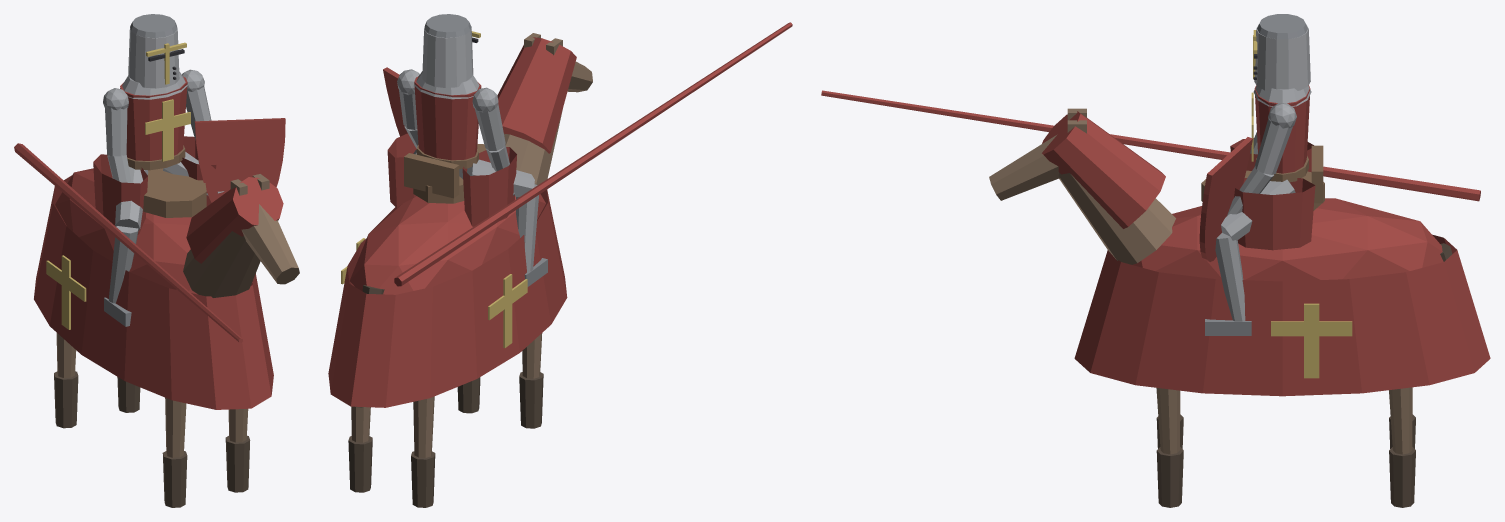
File: knight_enemy.glb
The picture shows the model from 3 angles, left to right: view 1: azimuth 30°, elevation 25°; view 2: azimuth 150°, elevation 25°; view 3: azimuth 270°, elevation 25°; orthographic projection. The views are drawn at different scales.
Visible parts, largest first — view 1: horse, rider; view 2: horse, rider; view 3: horse, rider.
Boxes of the visible parts, bbox=[...] form: horse: bbox=[34, 168, 299, 507]; rider: bbox=[14, 14, 285, 342]; horse: bbox=[328, 33, 592, 507]; rider: bbox=[383, 14, 792, 286]; horse: bbox=[989, 108, 1490, 507]; rider: bbox=[821, 14, 1480, 335].
Size of the model in its own units: 1.46 by 2.64 by 3.46.
